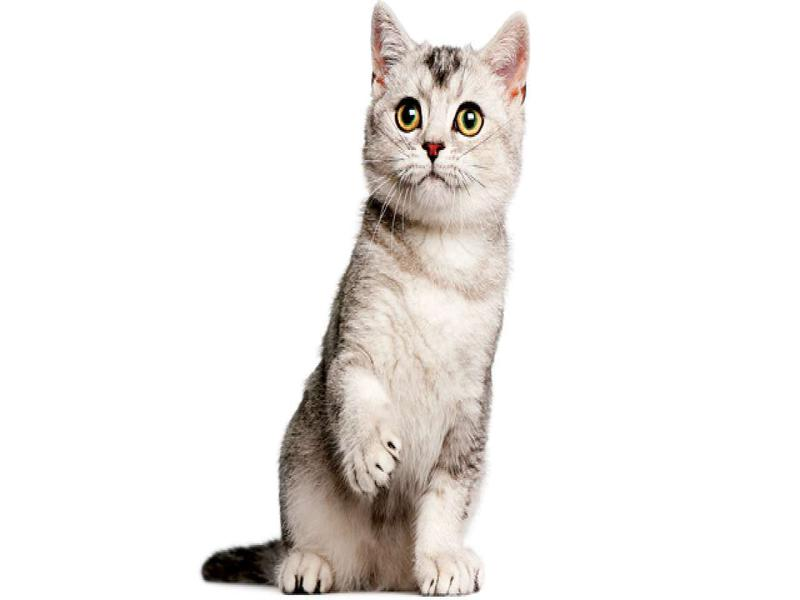cat: (198, 5, 541, 600)
